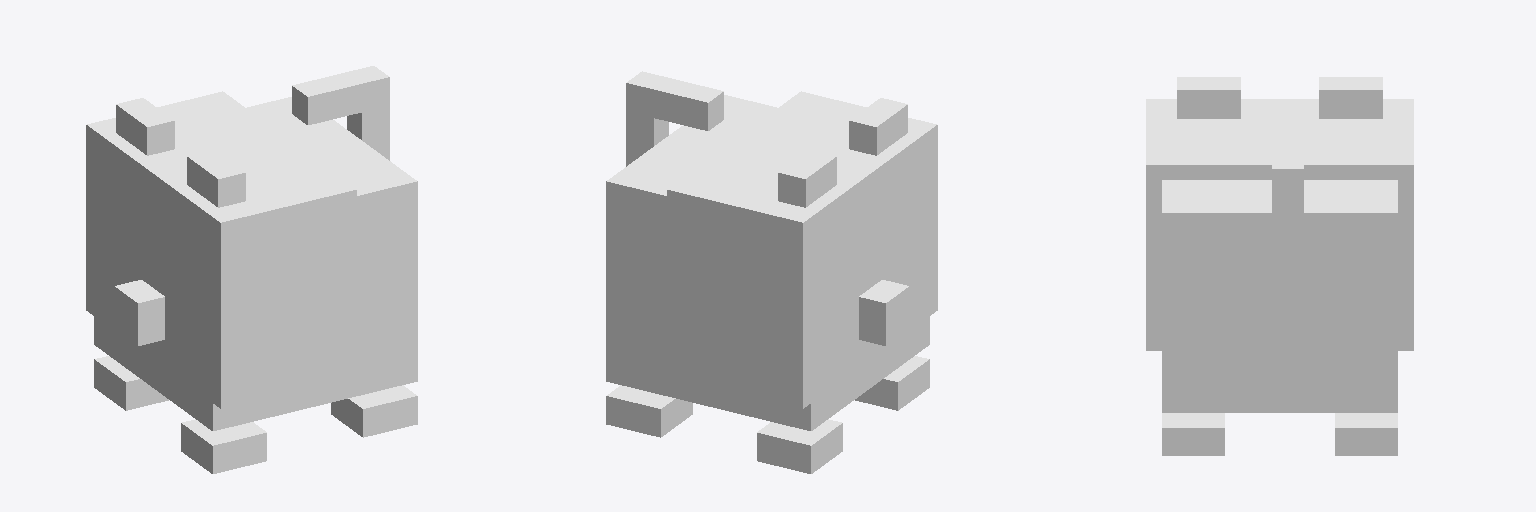
The model's file is lion_sep.obj.
3 views of the same model, side by side, from view 1: azimuth 30°, elevation 25°; view 2: azimuth 150°, elevation 25°; view 3: azimuth 270°, elevation 25° (orthographic).
Visible parts, largest first — view 1: lion_sep; view 2: lion_sep; view 3: lion_sep.
Part boxes in pixels (x1,y1,x2,y2): lion_sep: (86, 66, 417, 473); lion_sep: (606, 71, 937, 473); lion_sep: (1146, 77, 1413, 455).
Size of the model in its own units: 19 by 21 by 17.